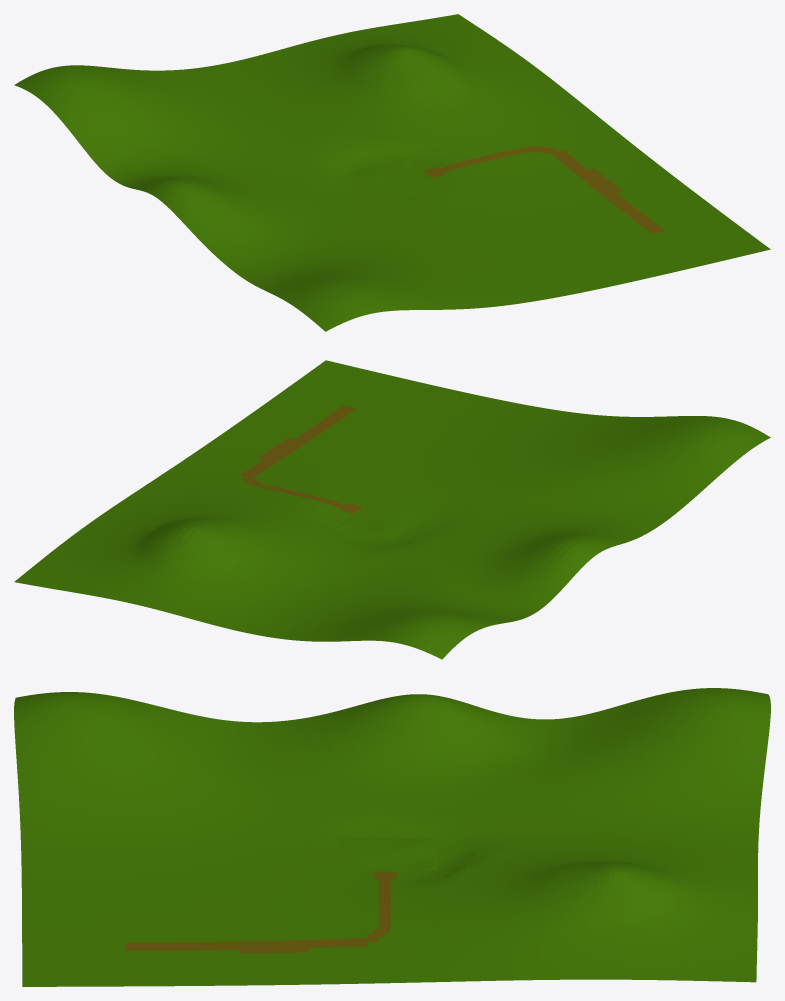
File: terrain.glb
3 views of the same model, one above another, from view 1: azimuth 30°, elevation 25°; view 2: azimuth 150°, elevation 25°; view 3: azimuth 270°, elevation 25° (orthographic). The views are drawn at different scales.
Parts seen in each view (by area): view 1: Plane.001, Plane; view 2: Plane.001, Plane; view 3: Plane.001, Plane.
Boxes of the visible parts, <box> form: Plane.001: <box>14,14,770,331</box>; Plane: <box>347,158,445,202</box>; Plane.001: <box>14,360,770,659</box>; Plane: <box>337,496,434,540</box>; Plane.001: <box>14,688,770,986</box>; Plane: <box>339,838,437,870</box>.
Size of the model in its own units: 313 by 32.86 by 389.
